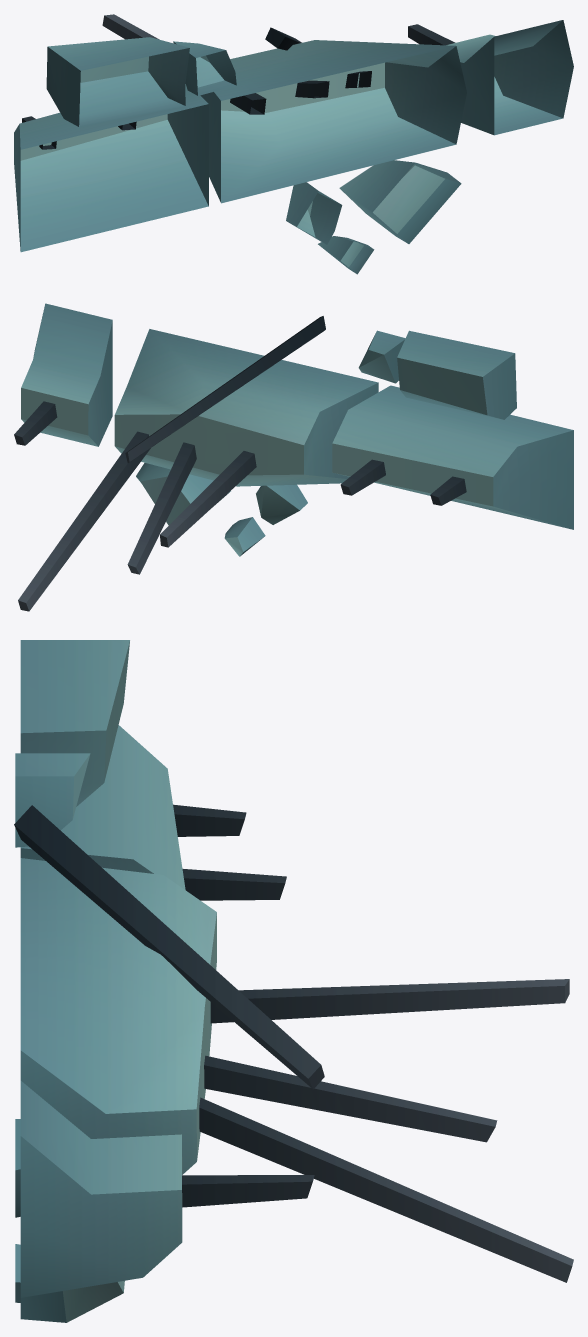
File: Ruin 04.FBX
The picture shows the model from 3 angles, top to bottom: view 1: azimuth 30°, elevation 25°; view 2: azimuth 150°, elevation 25°; view 3: azimuth 270°, elevation 25°; orthographic projection. The views are drawn at different scales.
Parts seen in each view (by area): view 1: Ruin 04; view 2: Ruin 04; view 3: Ruin 04.
Boxes of the visible parts, <box> form: Ruin 04: <box>14,14,573,274</box>; Ruin 04: <box>14,303,573,611</box>; Ruin 04: <box>14,640,573,1322</box>.
Bounding box in the file's own units: 385 × 180 × 206.
Materials: 1 (1 with a texture image).
